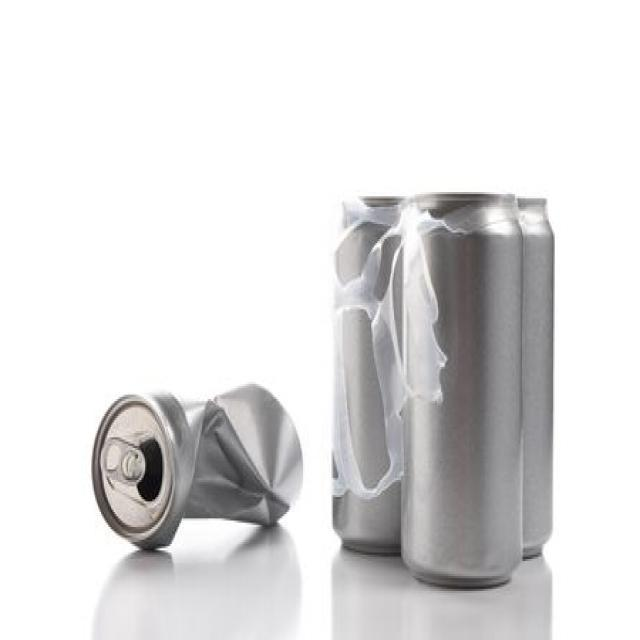can: (392, 175, 530, 593), (75, 333, 306, 580), (322, 171, 418, 567), (496, 178, 568, 590)
